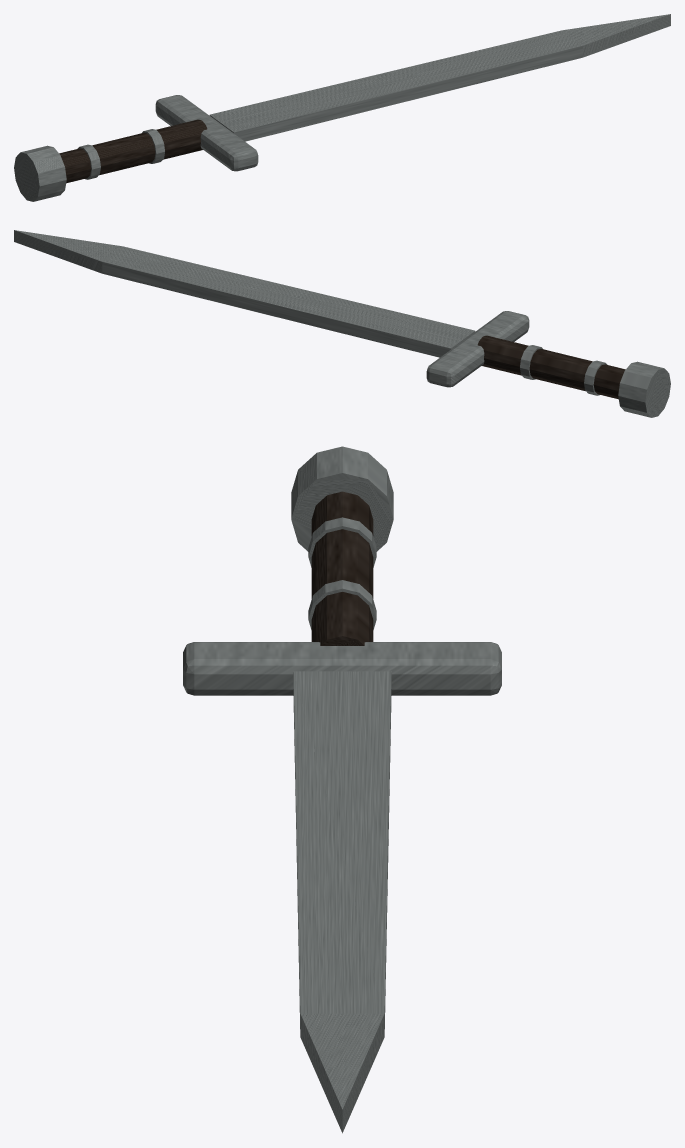
Rendered from weapon-sword.glb.
The picture shows the model from 3 angles, top to bottom: view 1: azimuth 30°, elevation 25°; view 2: azimuth 150°, elevation 25°; view 3: azimuth 270°, elevation 25°; orthographic projection. The views are drawn at different scales.
Parts seen in each view (by area): view 1: weapon_sword; view 2: weapon_sword; view 3: weapon_sword.
Boxes of the visible parts, <box> form: weapon_sword: <box>14,14,670,201</box>; weapon_sword: <box>14,230,670,417</box>; weapon_sword: <box>183,446,501,1133</box>.
Bounding box in the file's own units: 1.31 × 0.09 × 0.28.
1 material, 1 textured.
